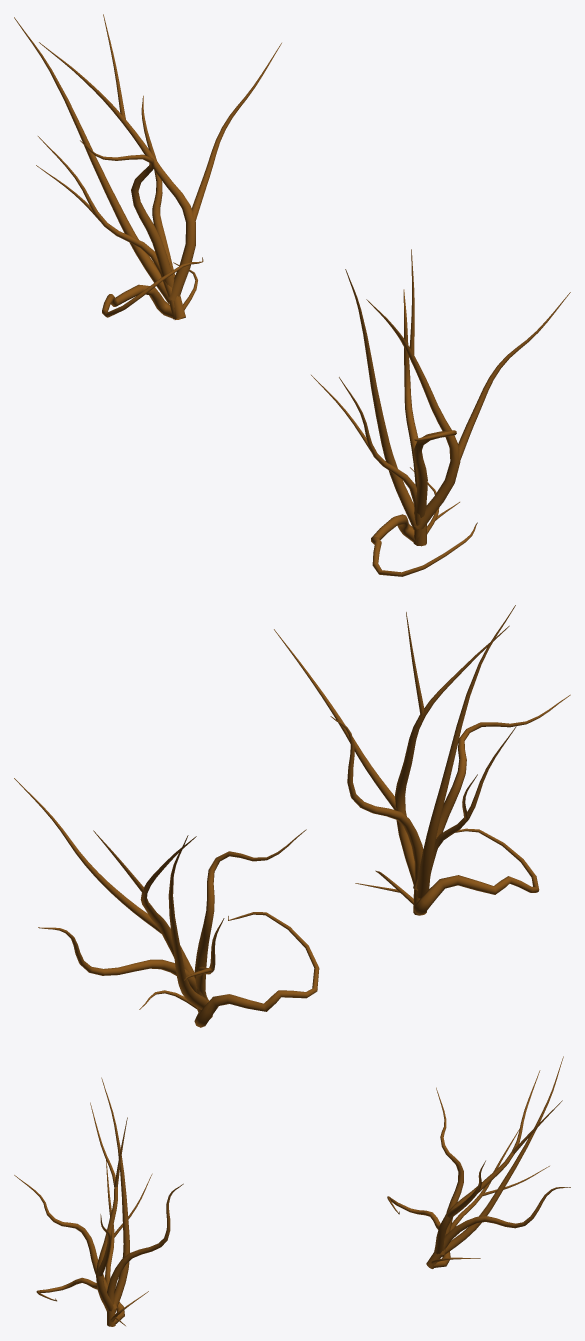
The model's file is ArvoresText03.fbx.
3 views of the same model, one above another, from view 1: azimuth 30°, elevation 25°; view 2: azimuth 150°, elevation 25°; view 3: azimuth 270°, elevation 25° (orthographic). The views are drawn at different scales.
Visible parts, largest first — view 1: tree; view 2: tree; view 3: tree.
Boxes of the visible parts, x1,y1,x2,y2 form: tree: (14,14,570,576); tree: (14,605,570,1027); tree: (14,1056,570,1326).
Size of the model in its own units: 14.84 by 37.71 by 17.59.
